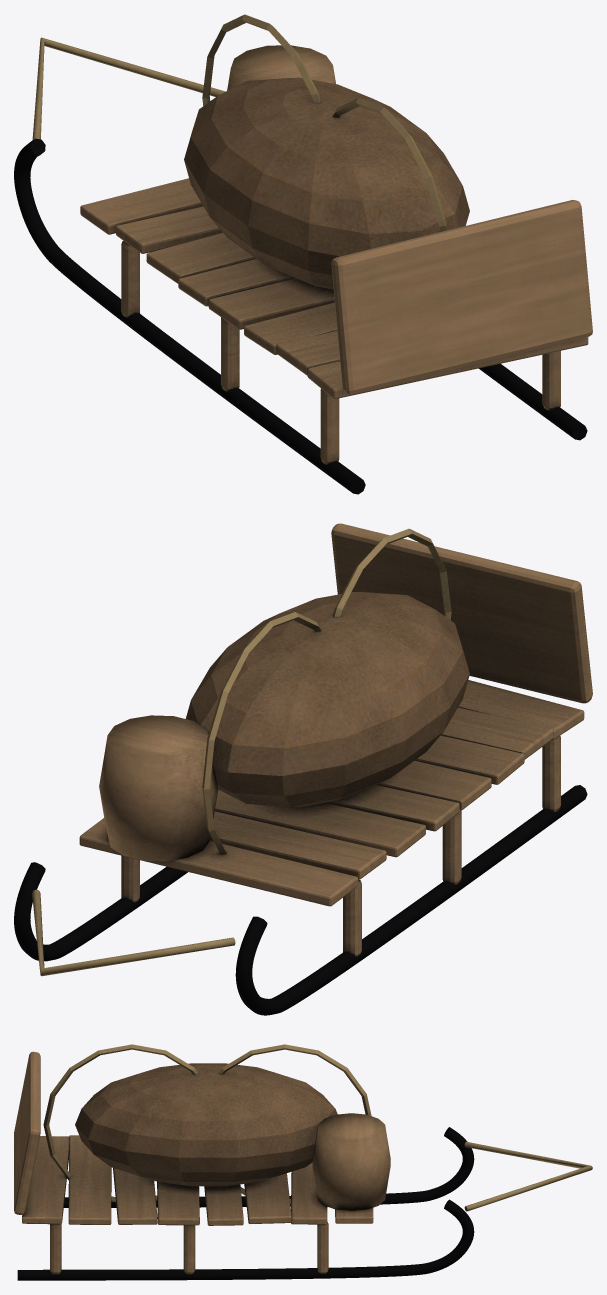
File: geada_treno.glb
3 renders of one model, top to bottom at view 1: azimuth 30°, elevation 25°; view 2: azimuth 150°, elevation 25°; view 3: azimuth 270°, elevation 25°, orthographic. The views are drawn at different scales.
Parts seen in each view (by area): view 1: geada_treno_tronco; view 2: geada_treno_tronco; view 3: geada_treno_tronco.
Part boxes in pixels (x1=…): geada_treno_tronco: x1=14, y1=14, x2=592, y2=494; geada_treno_tronco: x1=14, y1=523, x2=592, y2=1015; geada_treno_tronco: x1=14, y1=1044, x2=592, y2=1280.
Size of the model in its own units: 1.05 by 1.15 by 3.03.
1 material, 1 textured.
